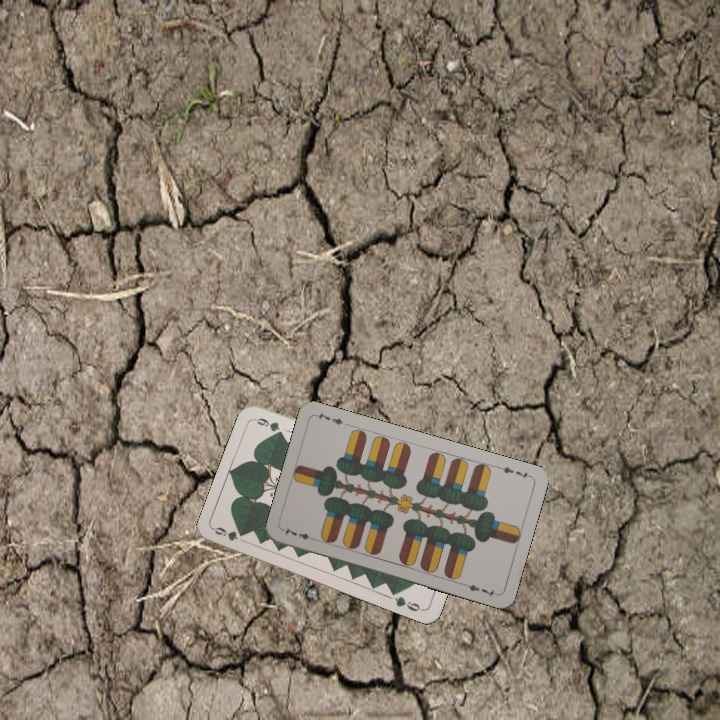E7: (279, 523, 319, 543), (494, 462, 534, 481)
G9: (210, 523, 247, 543)
